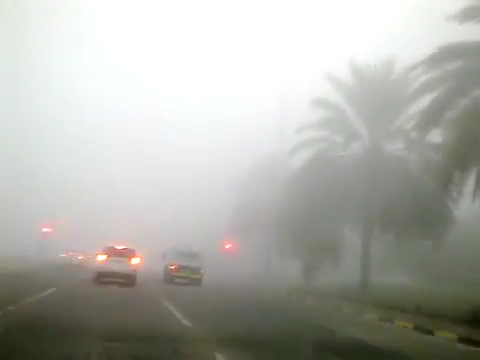bus: (162, 245, 205, 286)
car: (93, 244, 139, 287), (57, 249, 84, 268)
